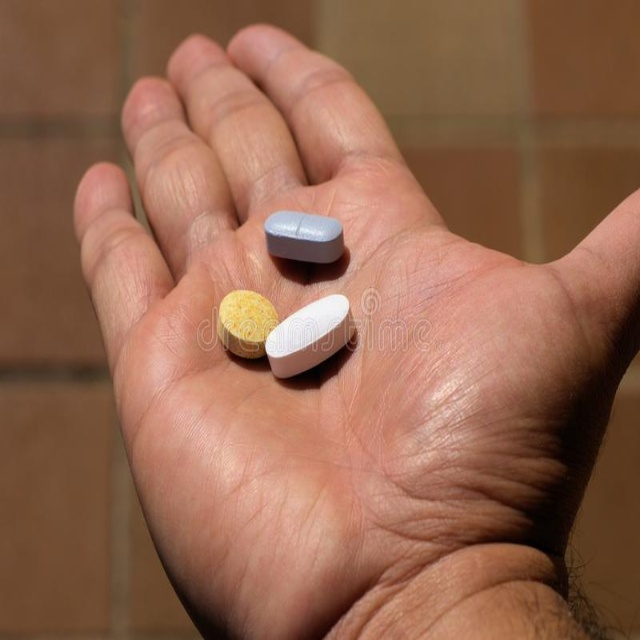pill: (331, 260, 444, 339), (323, 183, 435, 240), (263, 260, 348, 318)
